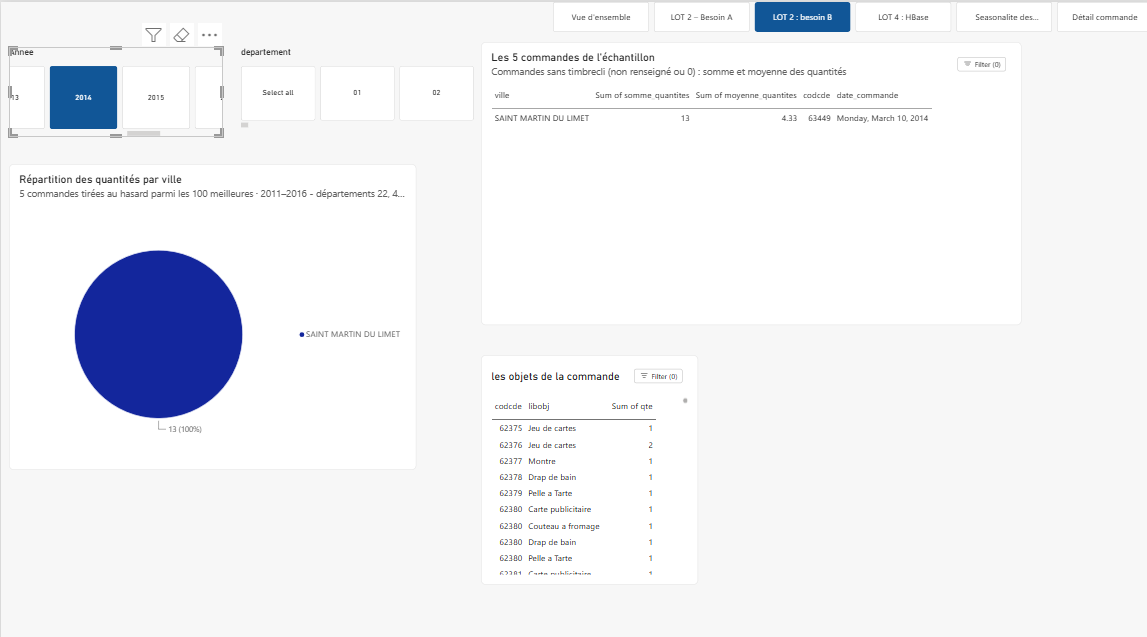

Layout of this report page (visuals, bound fields, positions):
{"tool":"powerbi","page":{"name":"LOT 2 : besoin B","canvas":[1920,1080],"ordinal":2},"visuals":[{"type":"pieChart","title":"Répartition des quantités par ville","fields":{"Category":["Echantillon_B.ville"],"Y":["Sum(Echantillon_B.somme_quantites)"]},"box":[13.3,270,678.6,509.7],"z":0},{"type":"tableEx","title":"Les 5 commandes de l''échantillon","fields":{"Values":["Echantillon_B.ville","Sum(Echantillon_B.somme_quantites)","Sum(Echantillon_B.moyenne_quantites)","Echantillon_B.codcde","Echantillon_B.date_commande"]},"box":[800.5,67.2,900.6,472.2],"z":1000},{"type":"tableEx","title":"les objets de la commande","fields":{"Values":["lignes.codcde","lignes.libobj","Sum(lignes.qte)"]},"box":[800,588.3,361.7,383.3],"z":2000},{"type":"pageNavigator","box":[919.3,0,1000,50],"z":3000},{"type":"advancedSlicerVisual","fields":{"Values":["Calendrier.Annee"]},"box":[14.1,75,356.5,150.1],"z":4000},{"type":"advancedSlicerVisual","fields":{"Values":["Clients.departement "]},"box":[400.3,75,390.9,136],"z":5000}]}

Visuals, with their boxes on the page's 1920x1080 design canvas (x1, y1, x2, y2). These are canvas units, not pixel positions in the 1147x637 screenshot, which may show the page scaled, cropped or inside an application window:
"Répartition des quantités par ville" pieChart: (left=13, top=270, right=692, bottom=780)
"Les 5 commandes de l''échantillon" tableEx: (left=800, top=67, right=1701, bottom=539)
"les objets de la commande" tableEx: (left=800, top=588, right=1162, bottom=972)
pageNavigator: (left=919, top=0, right=1919, bottom=50)
advancedSlicerVisual - Calendrier.Annee: (left=14, top=75, right=371, bottom=225)
advancedSlicerVisual - Clients.departement : (left=400, top=75, right=791, bottom=211)
